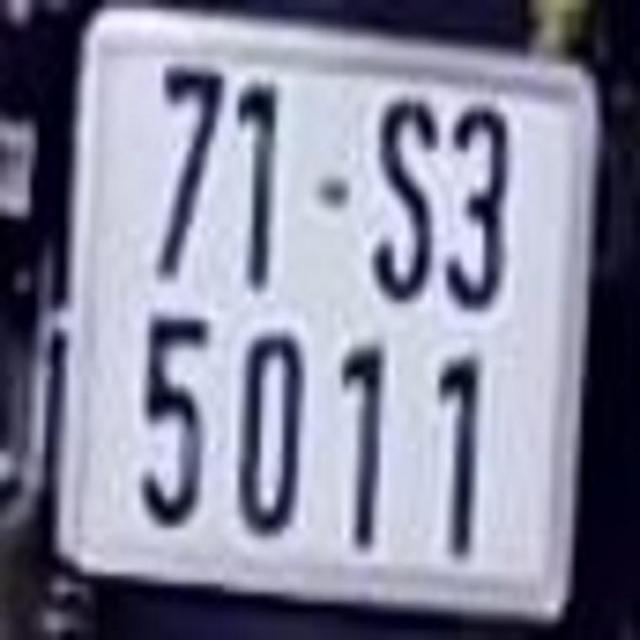0: (244, 314, 309, 529)
1: (426, 329, 477, 554), (237, 75, 282, 288), (341, 353, 384, 545)
3: (450, 100, 504, 308)
5: (148, 312, 200, 535)
7: (155, 68, 221, 276)
S: (374, 85, 432, 298)
